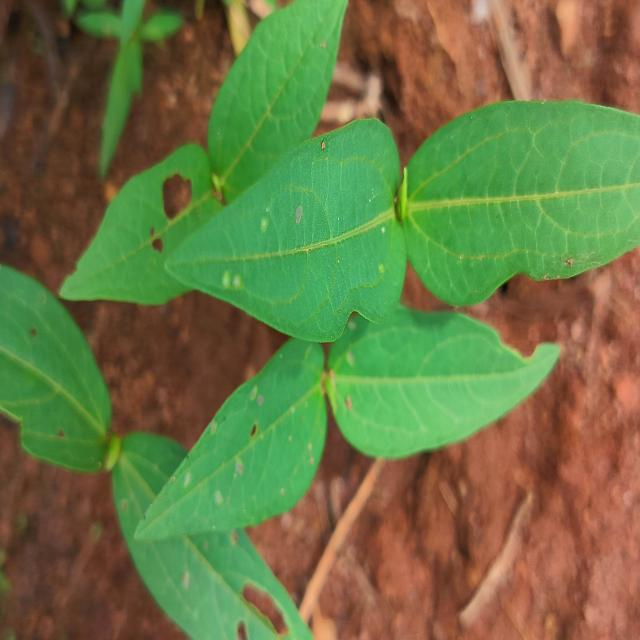Black gram_healthy: (165, 112, 406, 337), (399, 98, 640, 310), (133, 336, 324, 540), (327, 308, 563, 454)
